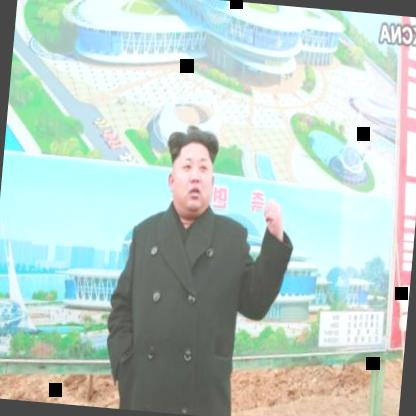head: (161, 130, 222, 223)
